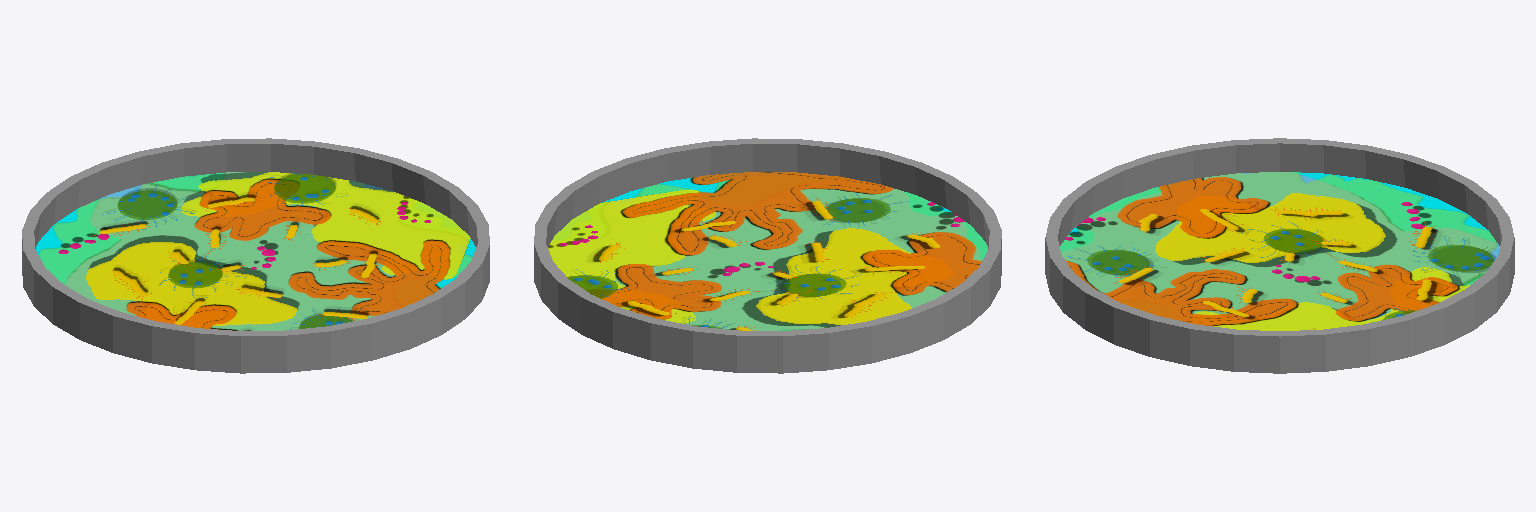
3 views of the same model, side by side, from view 1: azimuth 30°, elevation 25°; view 2: azimuth 150°, elevation 25°; view 3: azimuth 270°, elevation 25° (orthographic).
Parts seen in each view (by area): view 1: Cylinder; view 2: Cylinder; view 3: Cylinder.
Part boxes in pixels (x1,y1,x2,y2): Cylinder: (22, 138, 489, 373); Cylinder: (534, 138, 1001, 373); Cylinder: (1045, 138, 1514, 373).
Size of the model in its own units: 2.19 by 0.1918 by 2.19.
Materials: 2 (1 with a texture image).